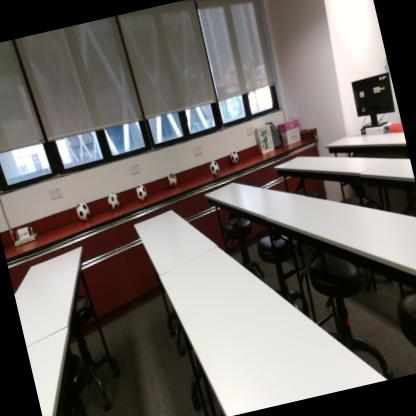ball: (76, 199, 92, 222), (106, 190, 122, 212), (135, 183, 149, 202), (166, 171, 180, 190), (209, 160, 220, 176), (230, 150, 240, 164)
